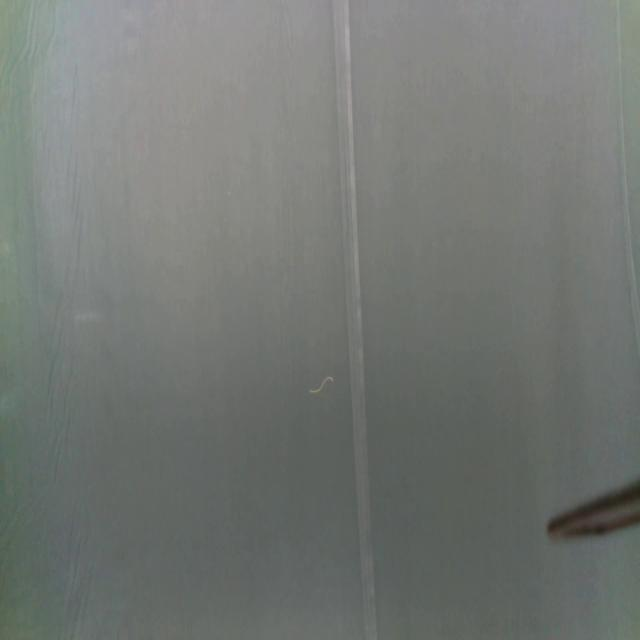crease: (332, 0, 378, 640), (615, 0, 640, 350)
